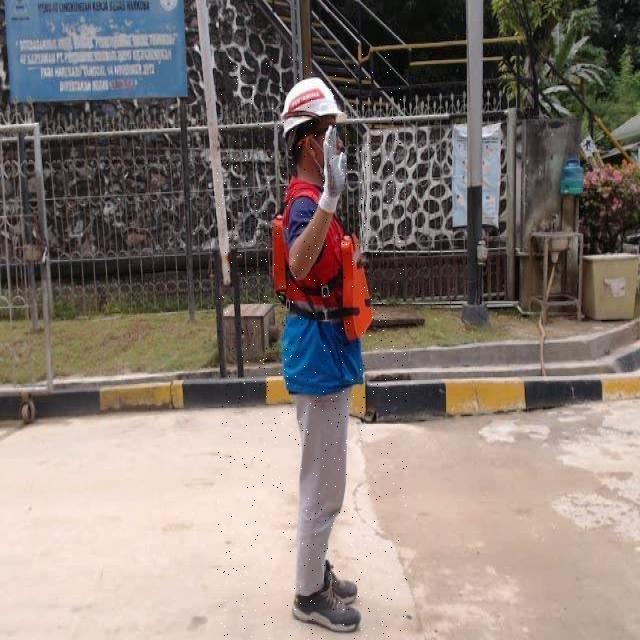boots: (291, 582, 361, 632), (294, 560, 357, 604)
gloves: (317, 123, 347, 212)
hard-hat: (280, 77, 343, 138)
person: (271, 77, 372, 633)
vest: (270, 177, 370, 395)
